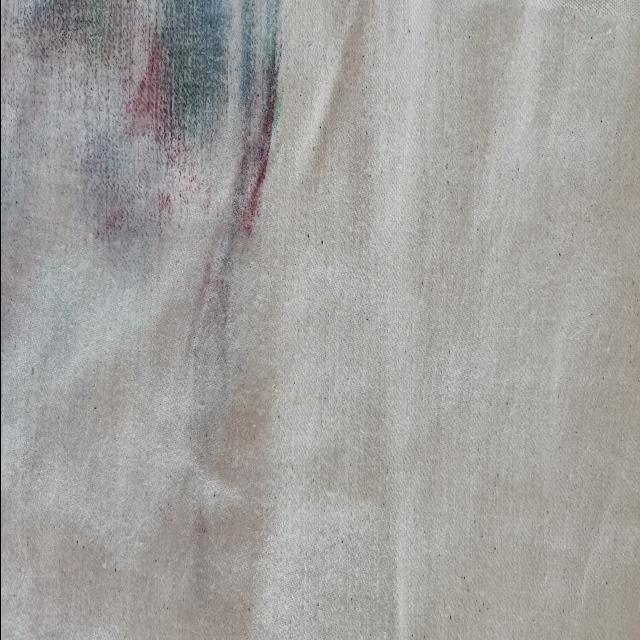taaaches: (0, 0, 291, 392)
